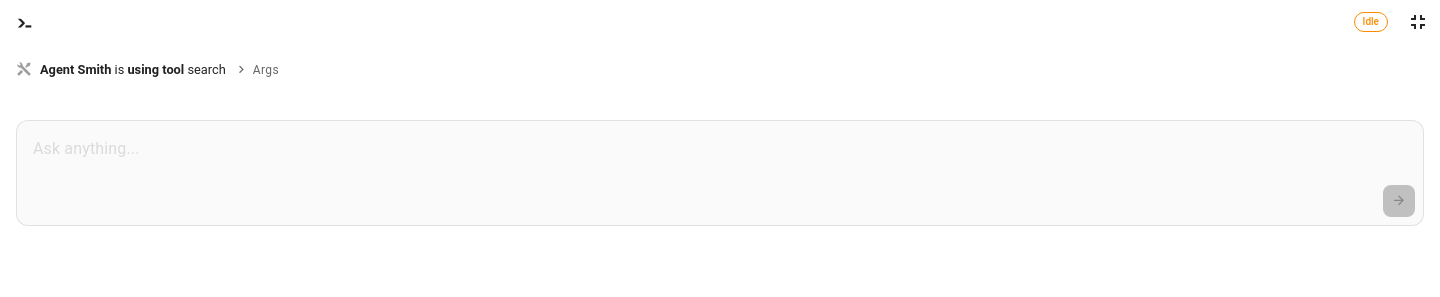
Scenario: InvestigationChat.vue › renders agent tool use messages
Expected: the element showing "Agent Smith is using tool search Args" is shown, x1=16 y1=61 x2=279 y2=78
Expected: the text "{ query: 'test' }" is not shown
Click the button with class "cursor-pointer": click(256, 70) x1=234 y1=60 x2=279 y2=80
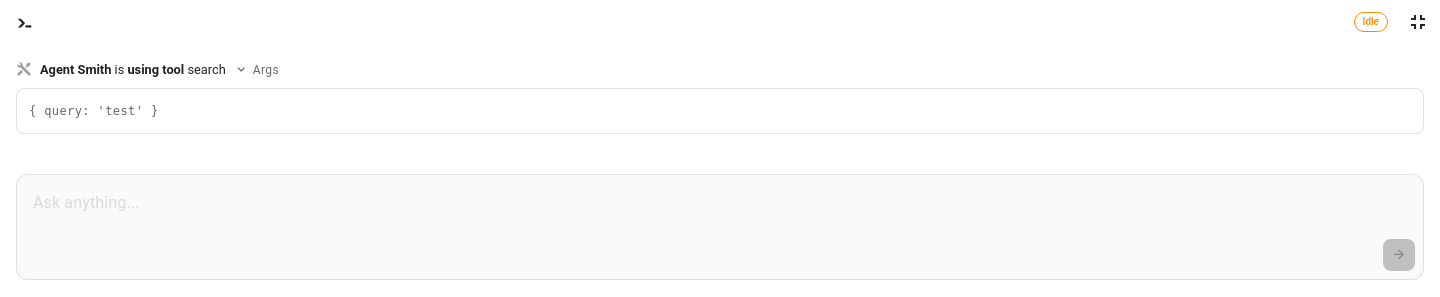
Expected: the text "{ query: 'test' }" is shown, x1=16 y1=88 x2=1424 y2=134
